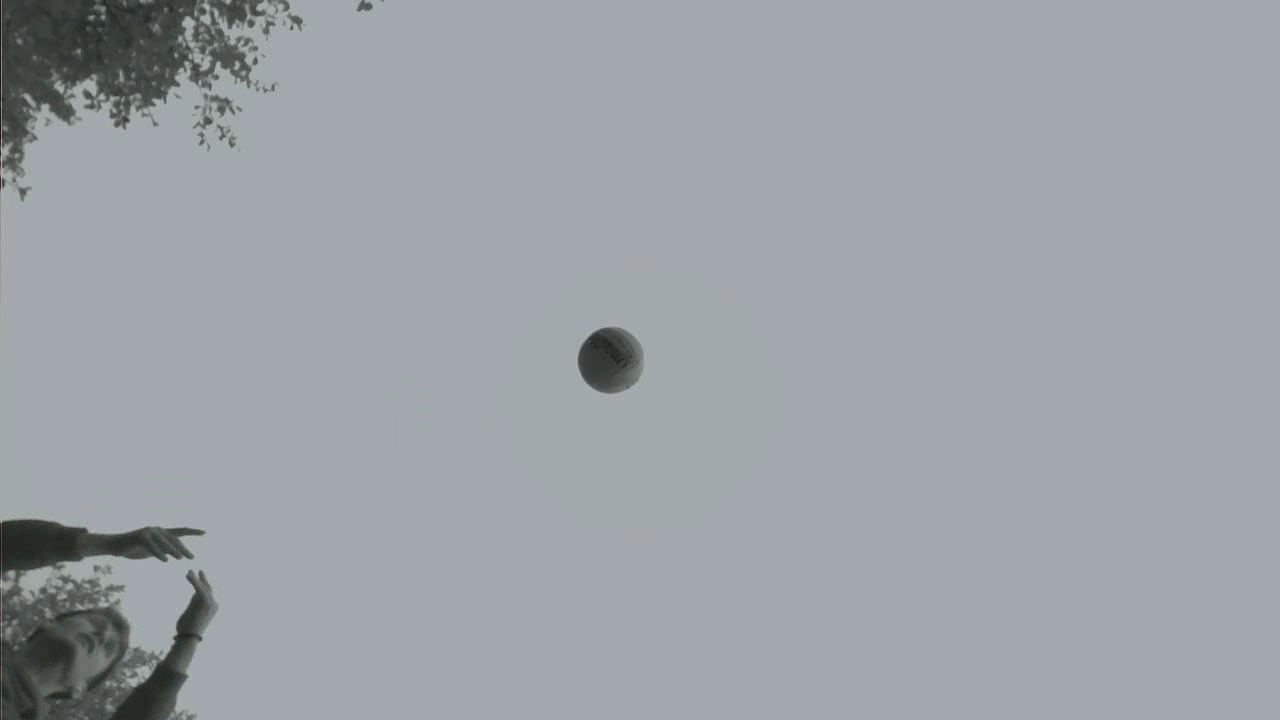Football-Spotter: (579, 328, 643, 393)
